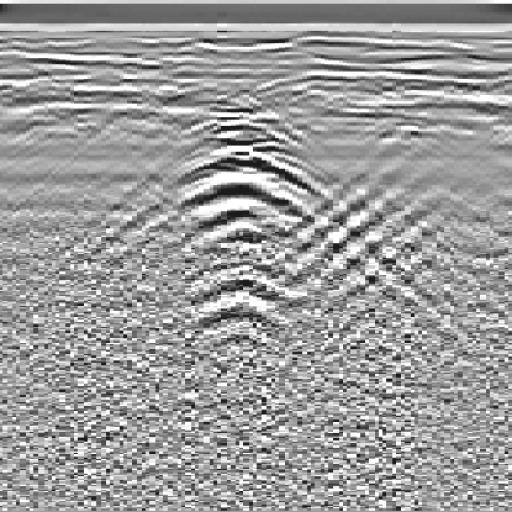metalic: (96, 85, 407, 372)
